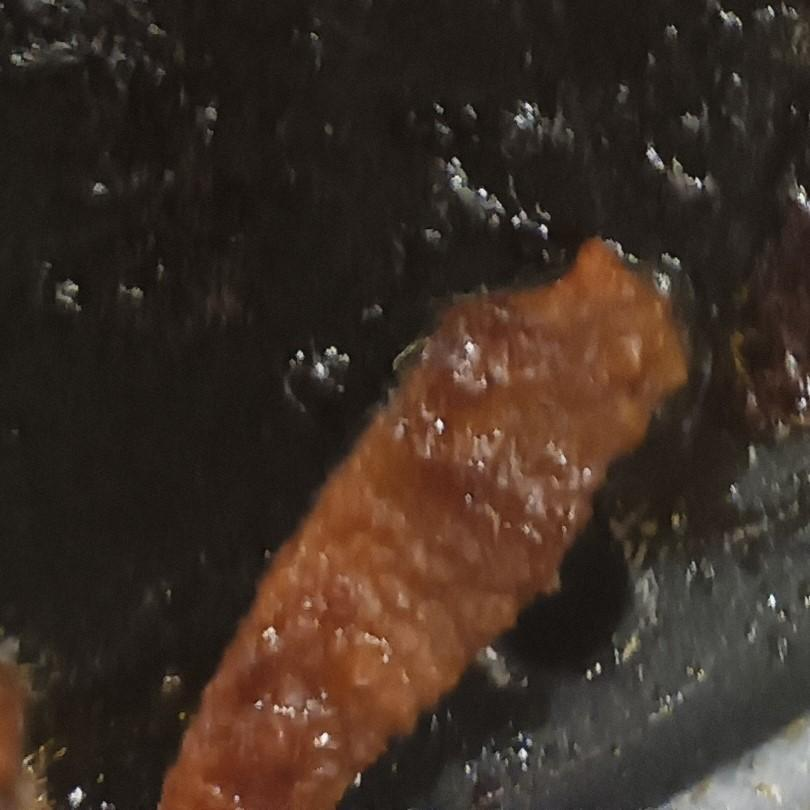Overcooked: (155, 240, 710, 809)
